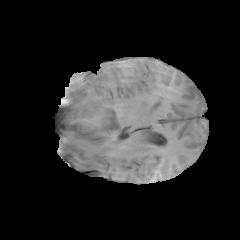glioma: (63, 64, 122, 137)
